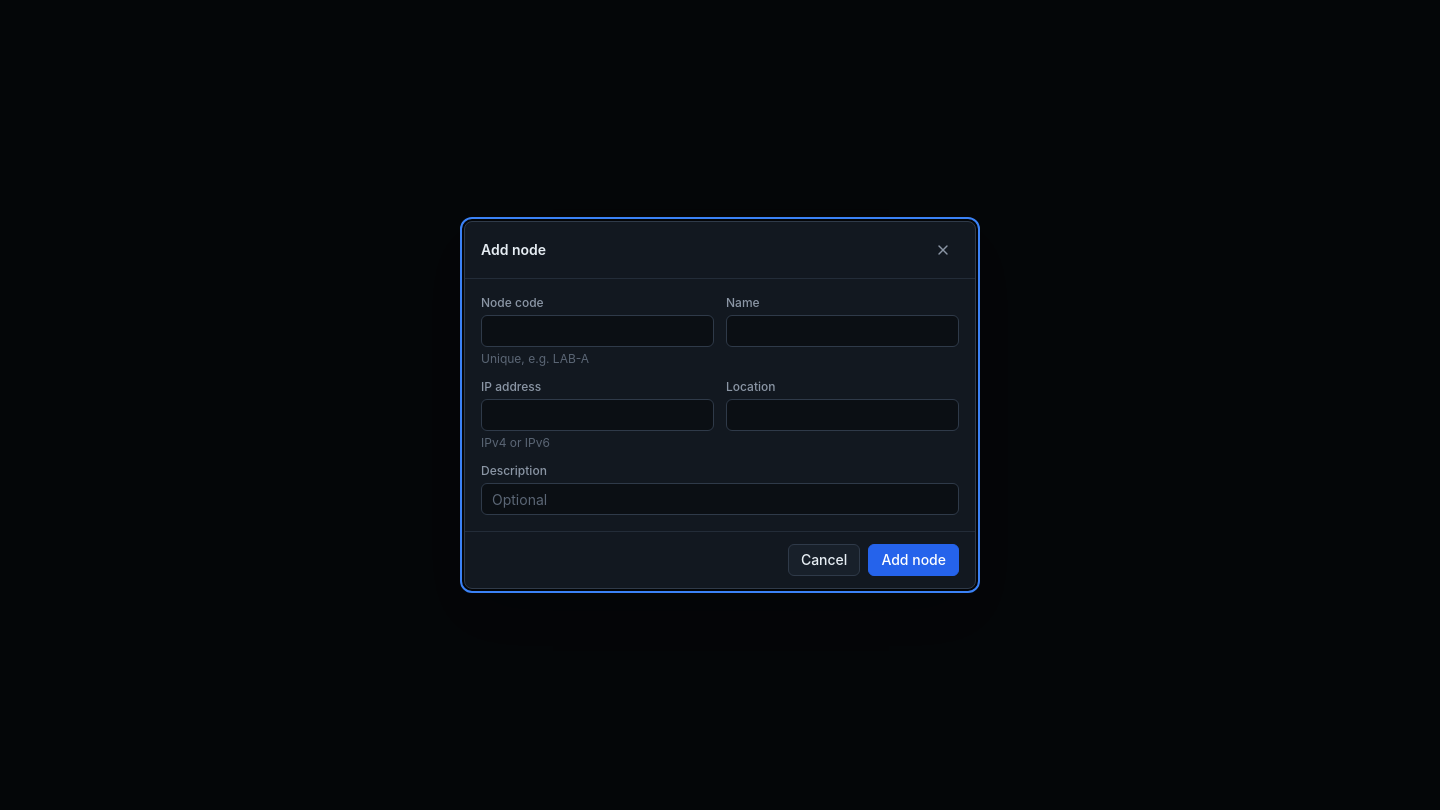
Test: NodeFormModal › shows the server error (e.g. a duplicate code) and stays open for a correction
The width and height of the screenshot is (1440, 810).
Type "LAB-A" into the field labelled "Node code" at (598, 331), box [481,315,714,347]
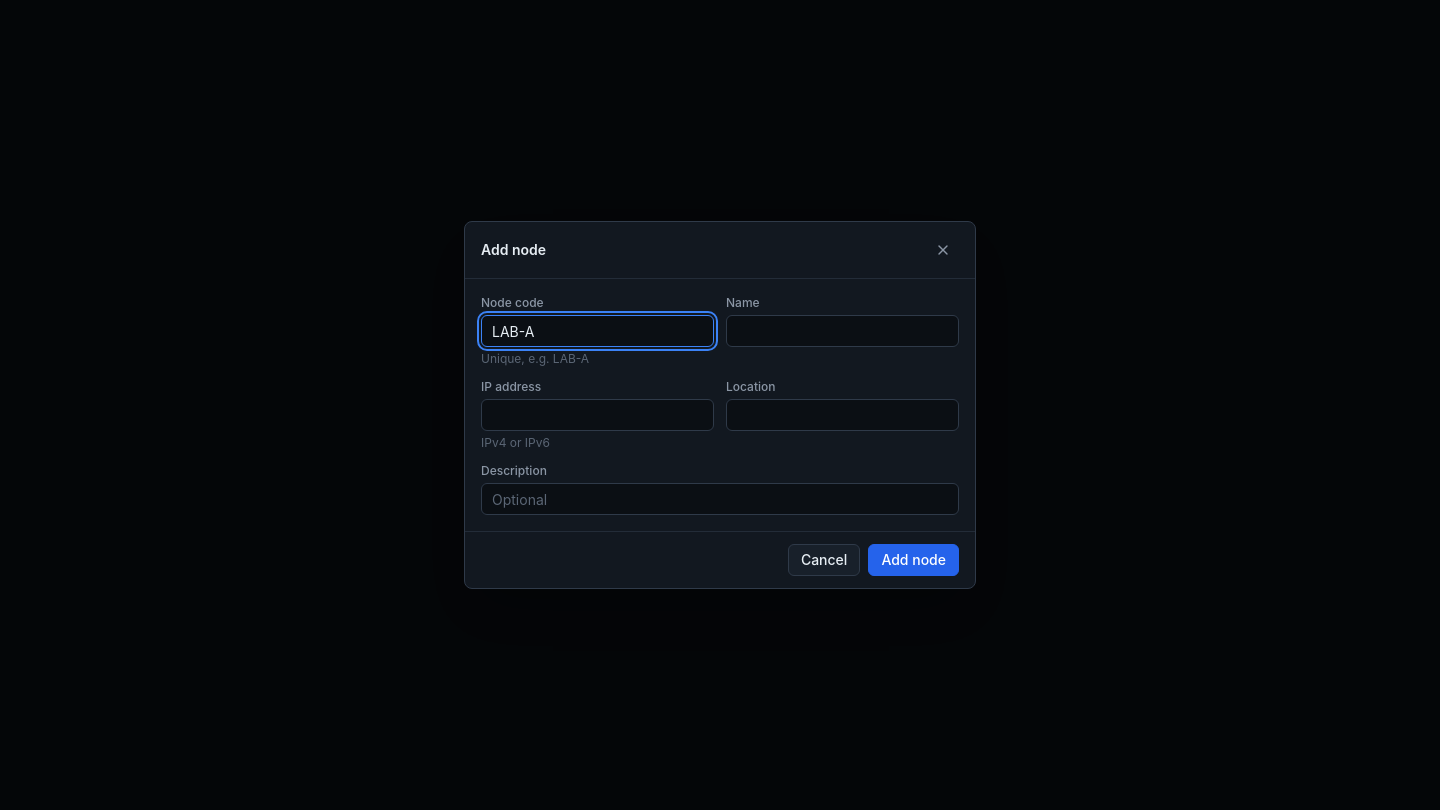
Type "Dup" into the field labelled "Name" at (842, 331), box [726,315,959,347]
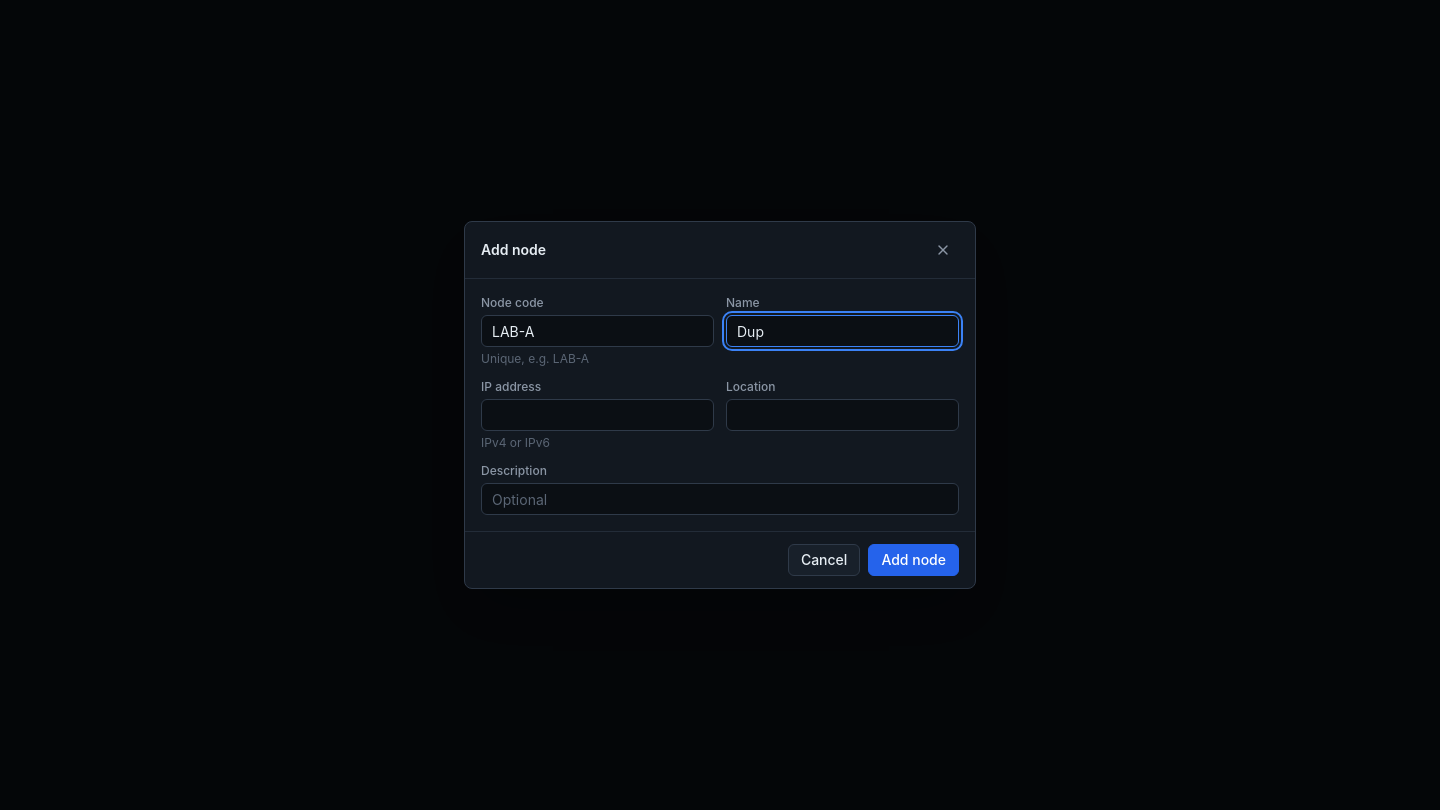
Type "10.0.0.9" into the field labelled "IP address" at (598, 415), box [481,399,714,431]
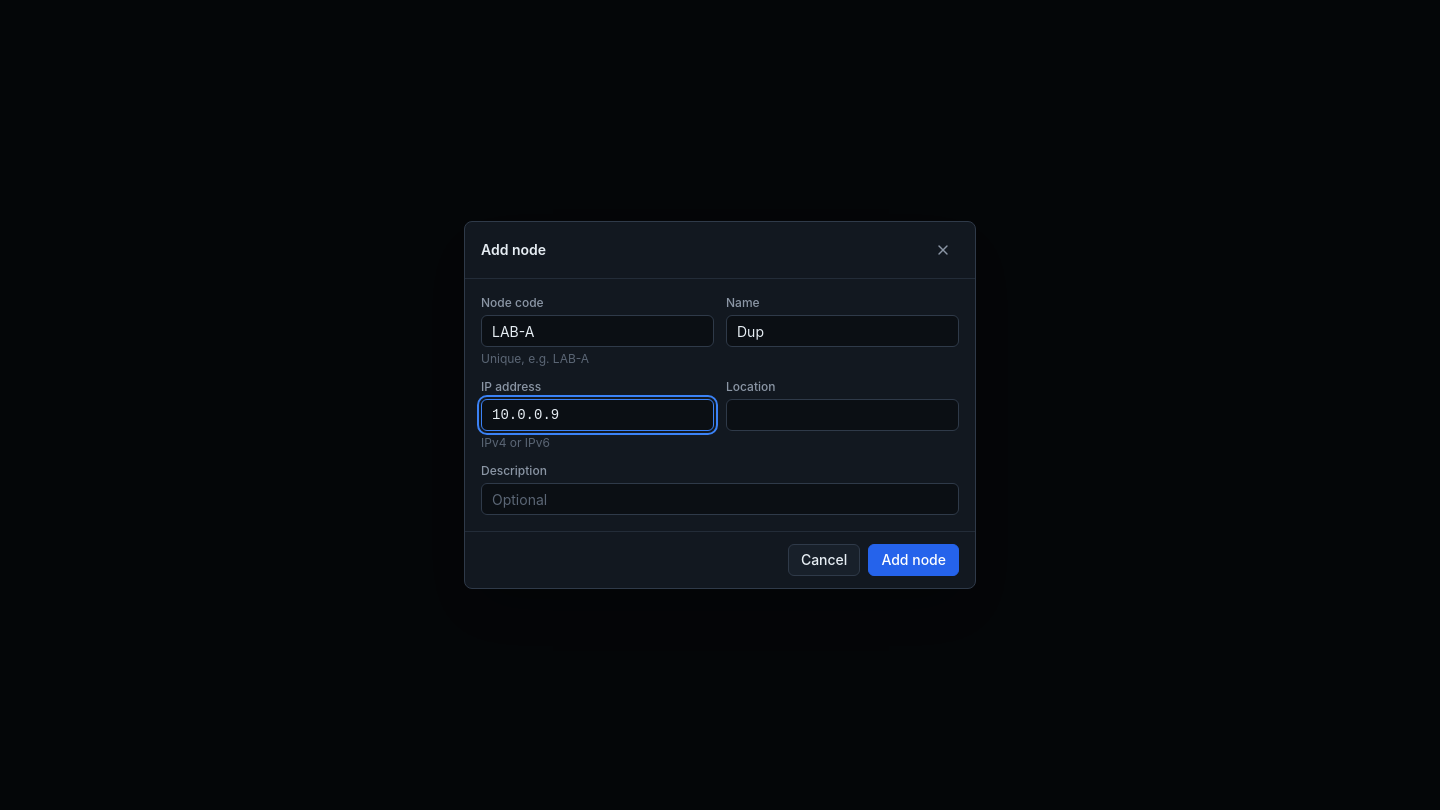
Type "Z" into the field labelled "Location" at (842, 415), box [726,399,959,431]
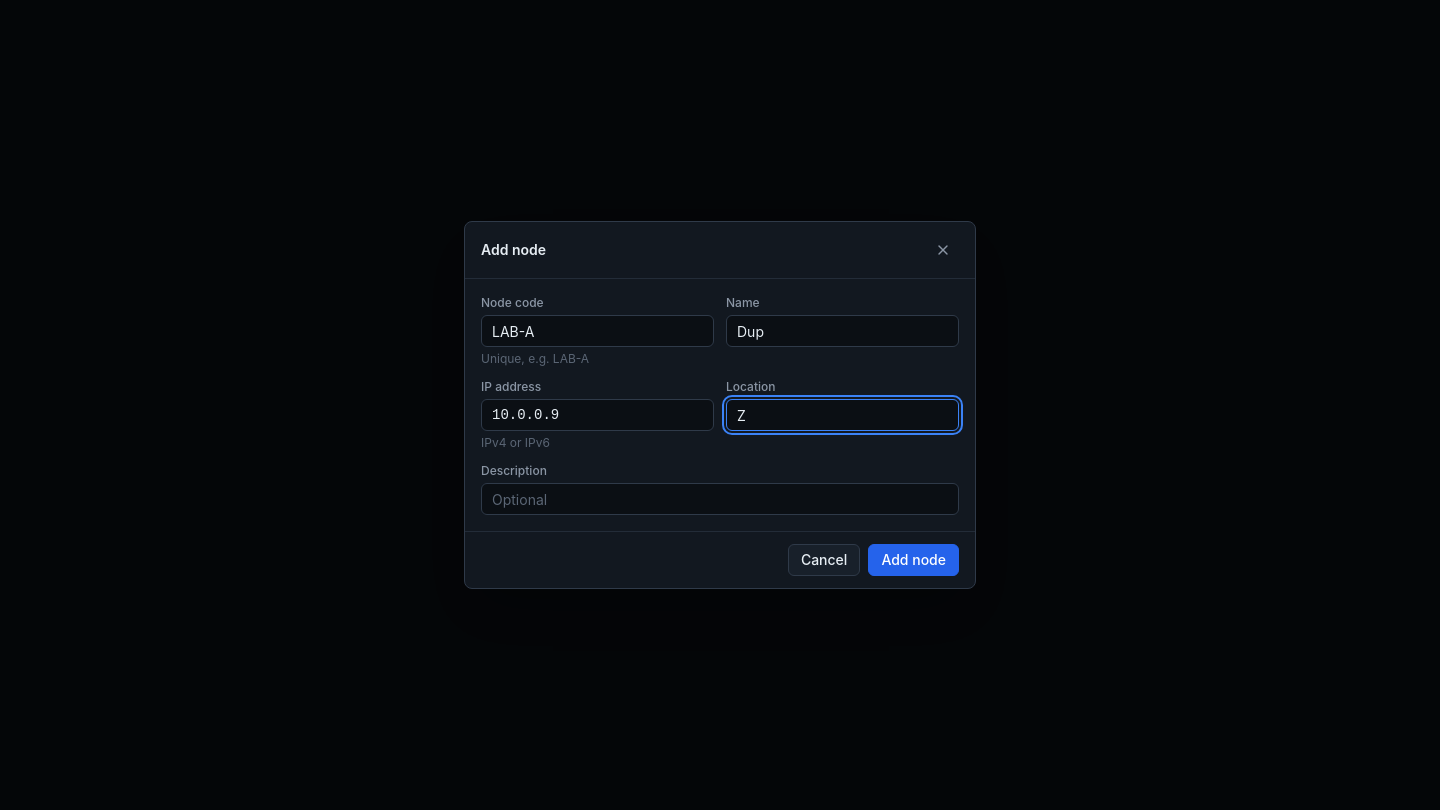
Click the button "Add node" at (914, 560), box [868,544,959,576]
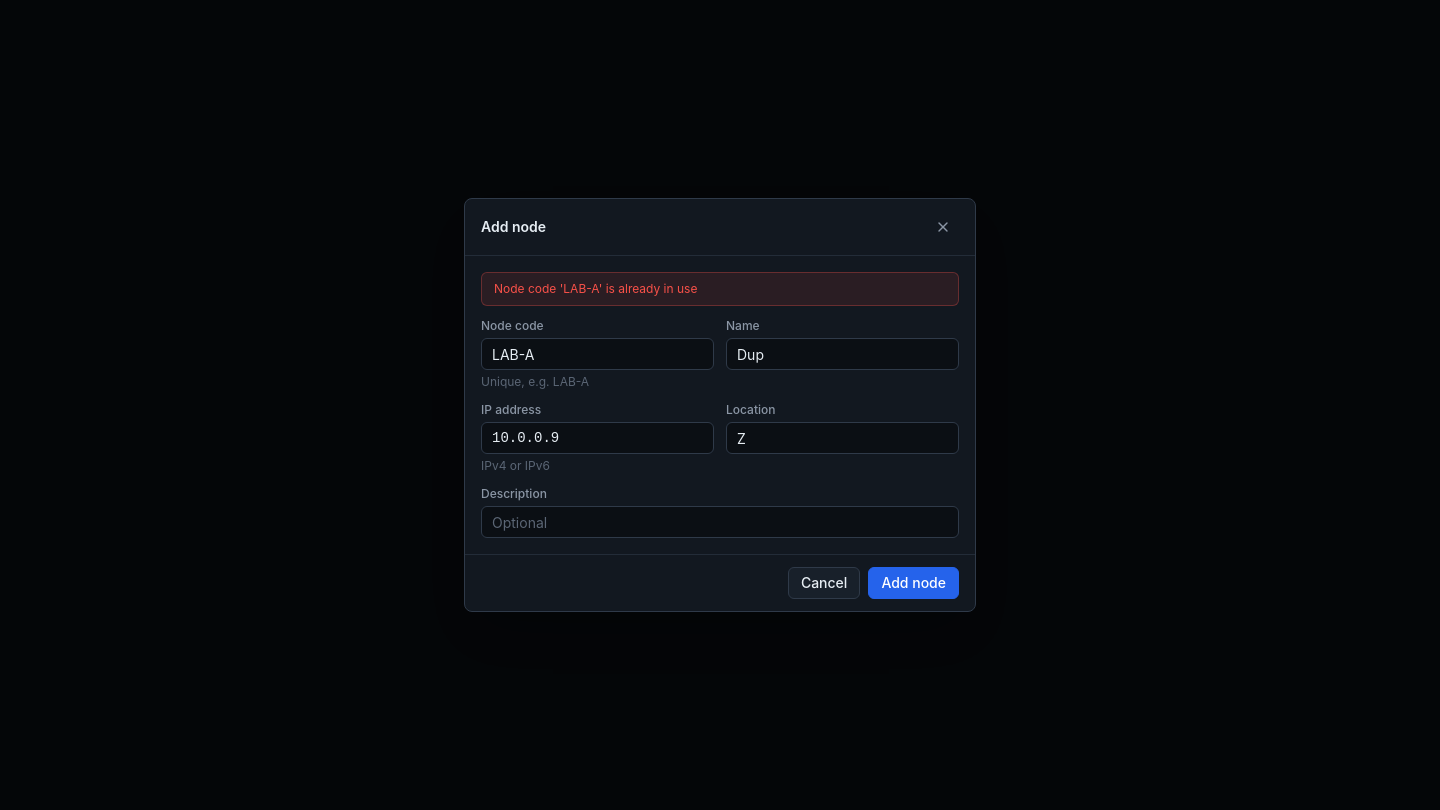
Expected: the button "Add node" is enabled, [868,567,959,599]
Expected: the message reads "Node code 'LAB-A' is already in use", [494,281,697,296]
